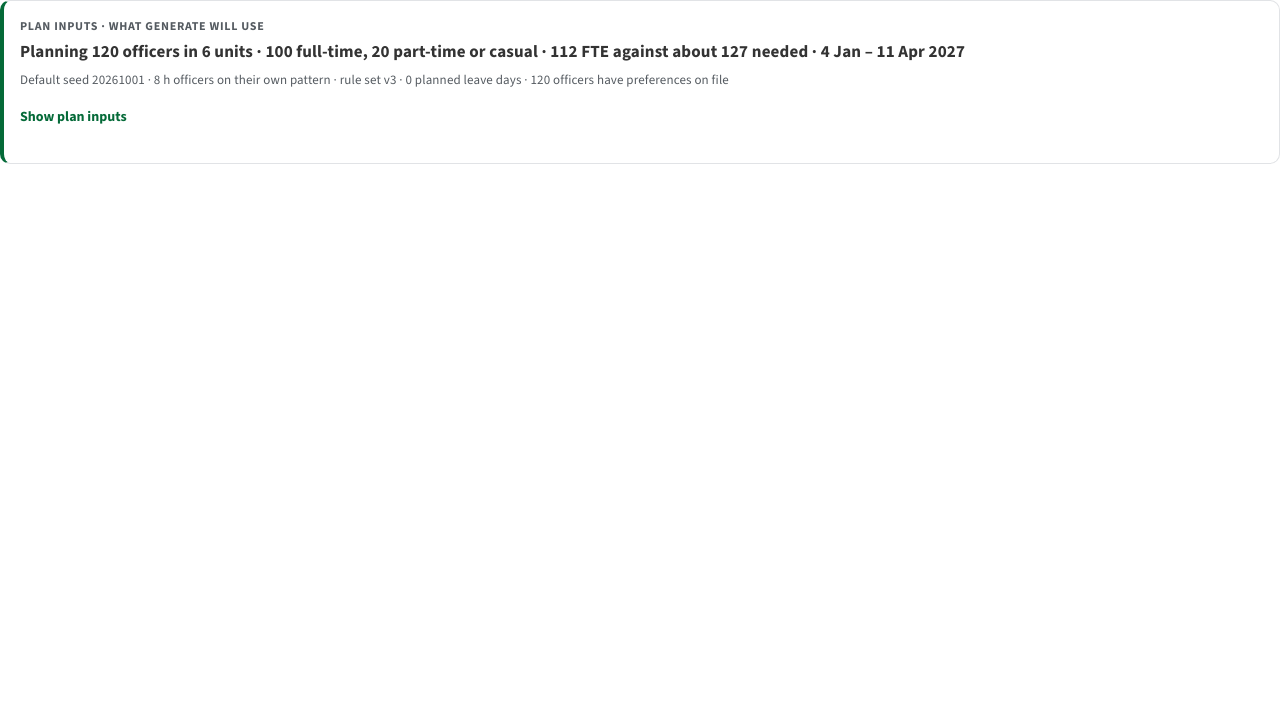
the plan inputs card › shows the headline, then the detail on request
expect the heading "Plan inputs · what Generate will use" is shown: met, box [20, 18, 265, 34]
expect the text with test id "plan-inputs-headline" shows "Planning 120 officers in 6 units · 100 full-time, 20 part-time or casual · 112 FTE against about 127 needed": met, box [20, 40, 965, 63]
Click the button "Show plan inputs": {"x": 73, "y": 117} [20, 95, 127, 139]
(page scrolled)
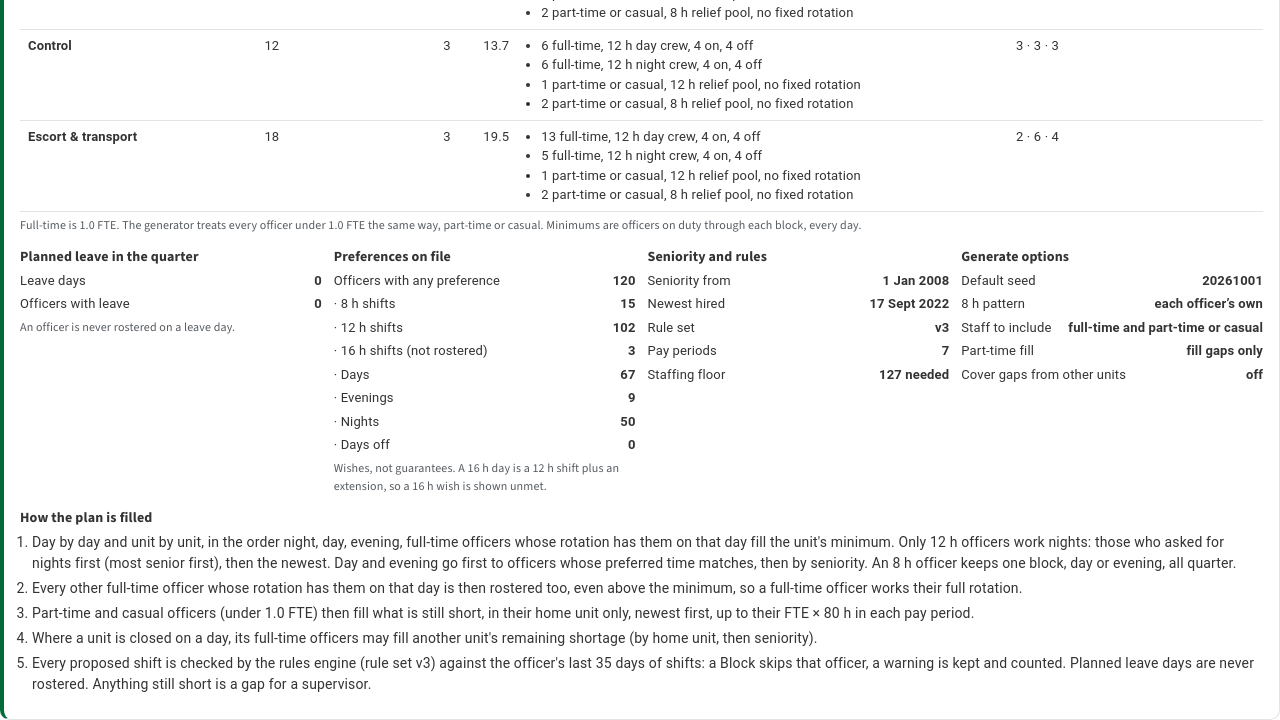
expect the text "· 16 h shifts (not rostered)" is shown: met, box [334, 341, 488, 361]
expect the text "full-time officers whose rotation has them on that day fill the unit's minimum" is shown: met, box [32, 534, 1236, 571]
expect the text "Part-time and casual officers (under 1.0 FTE)" is shown: met, box [32, 605, 974, 621]
